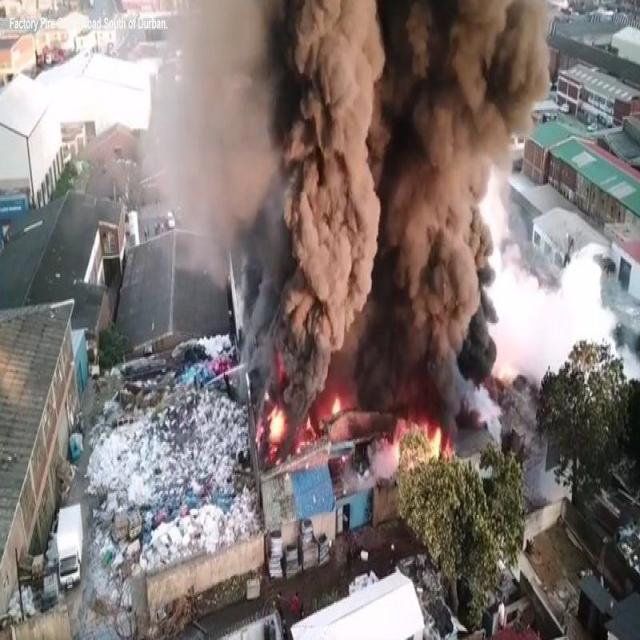Fire: (272, 396, 356, 460)
Smoke: (257, 0, 547, 428)
